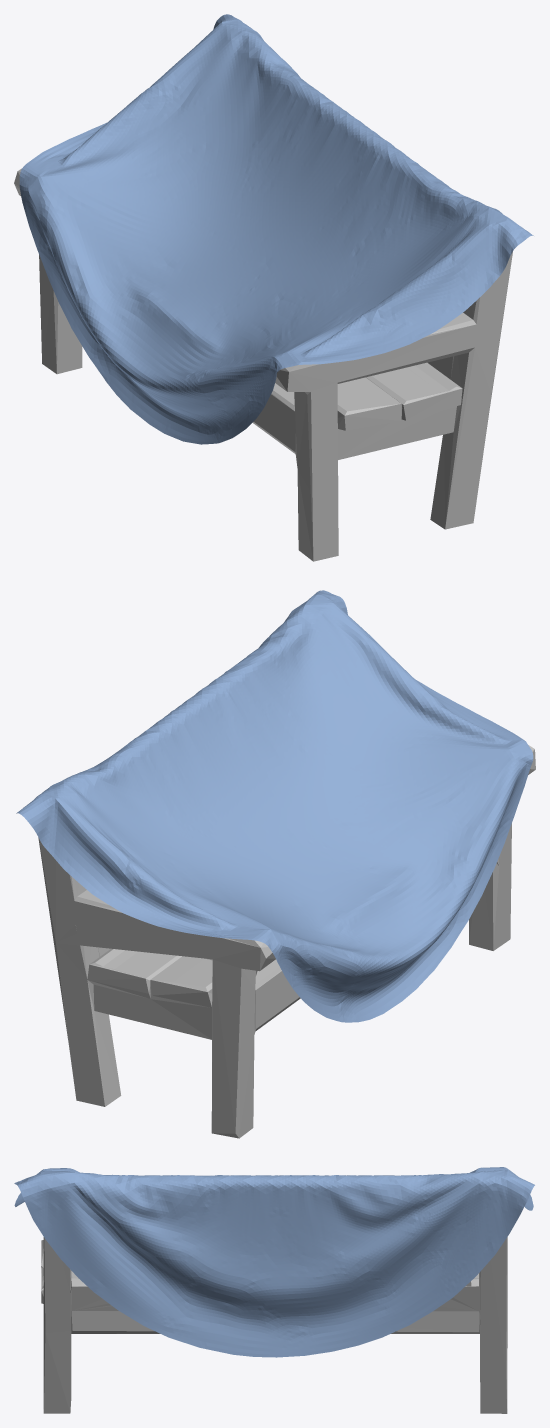
The model's file is level_3.glb.
The picture shows the model from 3 angles, top to bottom: view 1: azimuth 30°, elevation 25°; view 2: azimuth 150°, elevation 25°; view 3: azimuth 270°, elevation 25°; orthographic projection. The views are drawn at different scales.
Visible parts, largest first — view 1: world, object.obj; view 2: world, object.obj; view 3: world, object.obj.
Part boxes in pixels (left/top/right/bottom): world: left=19, top=14, right=533, bottom=444; object.obj: left=14, top=168, right=512, bottom=561; world: left=16, top=590, right=533, bottom=1022; object.obj: left=38, top=745, right=535, bottom=1138; world: left=14, top=1167, right=534, bottom=1357; object.obj: left=41, top=1237, right=507, bottom=1413.
Bounding box in the file's own units: 0.2606 × 0.2863 × 0.5338.
